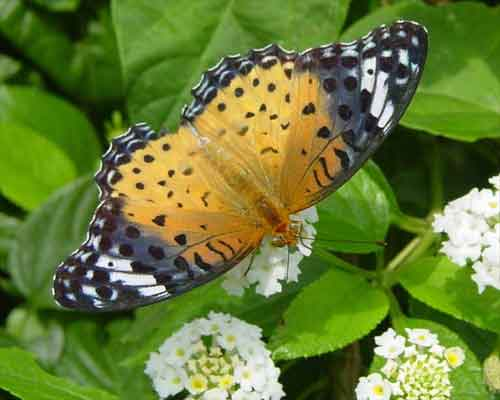Argyreus hyperbius: (47, 15, 435, 313)
butterfly: (49, 17, 437, 315)
